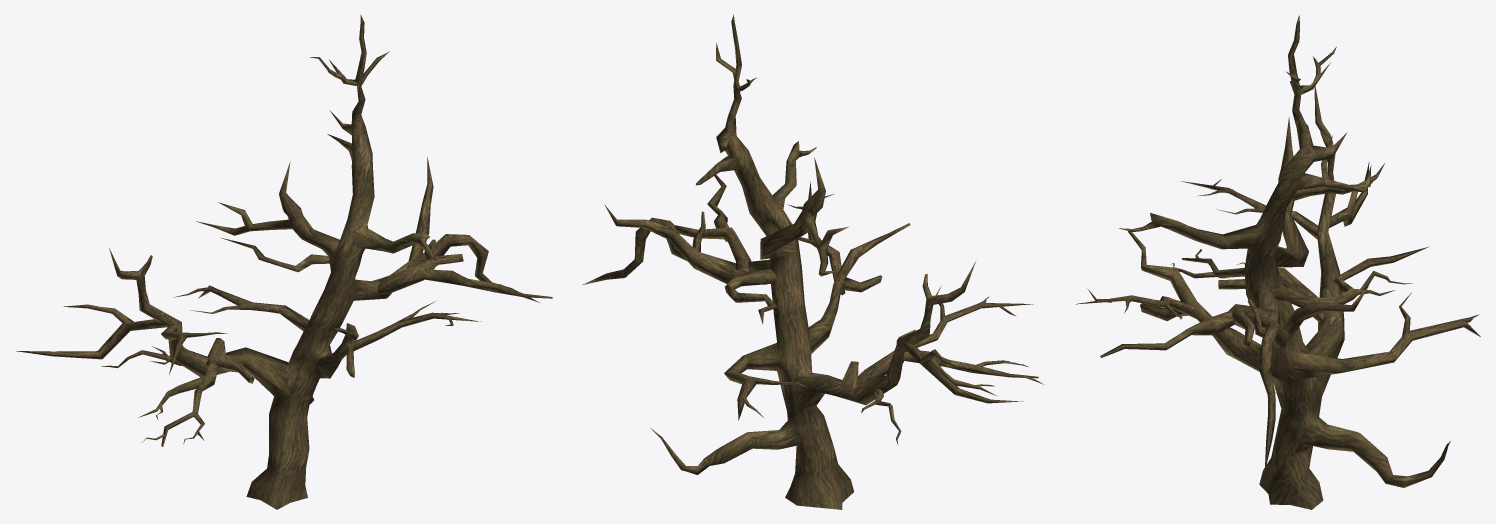
The model's file is s7_fightpve_kushu04.FBX.
3 renders of one model, left to right at view 1: azimuth 30°, elevation 25°; view 2: azimuth 150°, elevation 25°; view 3: azimuth 270°, elevation 25°, orthographic. The views are drawn at different scales.
Visible parts, largest first — view 1: DrawCall_190_009; view 2: DrawCall_190_009; view 3: DrawCall_190_009.
Boxes of the visible parts, x1=… form: DrawCall_190_009: x1=16, y1=14, x2=552, y2=509; DrawCall_190_009: x1=582, y1=14, x2=1043, y2=509; DrawCall_190_009: x1=1075, y1=15, x2=1480, y2=509.
Size of the model in its own units: 355 by 323 by 227.
